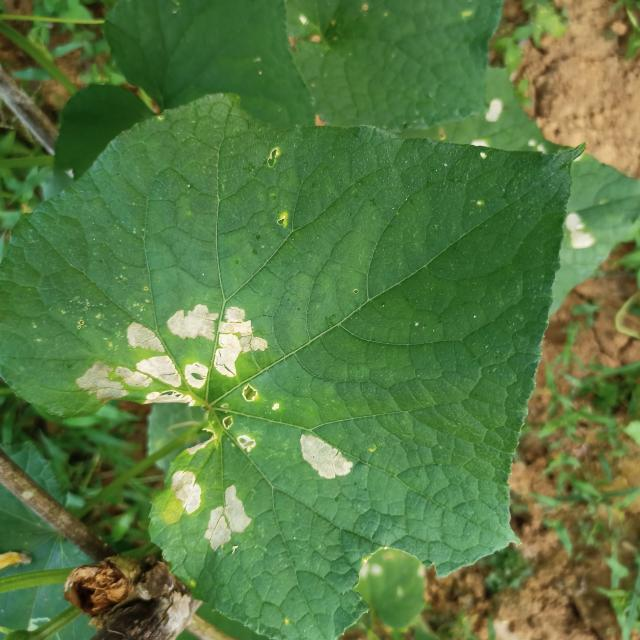disease_cucumber: (74, 299, 273, 414), (201, 480, 254, 552), (295, 430, 357, 483), (169, 467, 204, 518), (217, 413, 260, 453)
